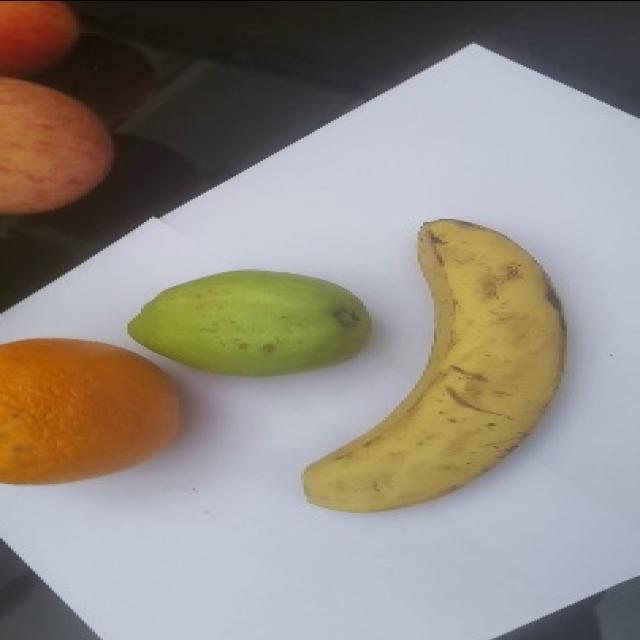Apple: (0, 77, 114, 213), (0, 0, 80, 73)
Banana: (302, 219, 568, 516)
Orange: (0, 337, 186, 489)
